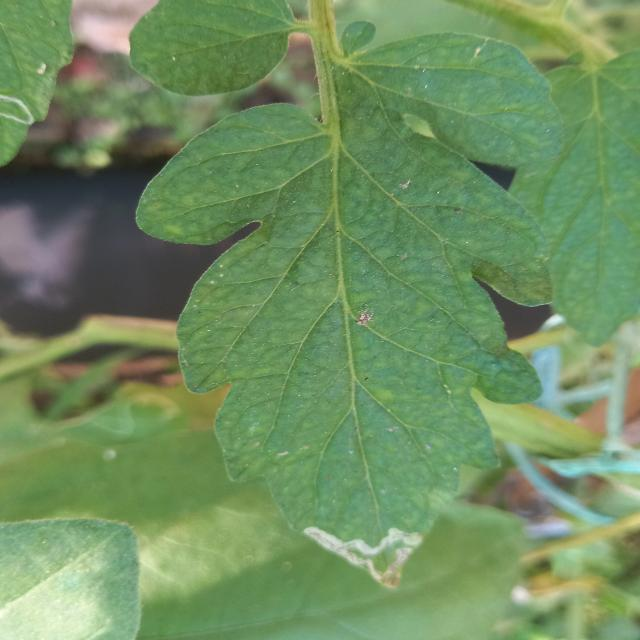Tuta absoluta: (301, 480, 427, 592)
